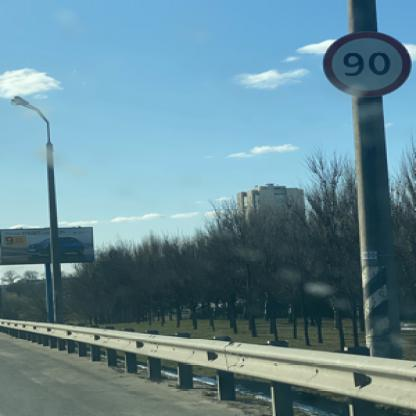speedlimit: (320, 29, 411, 96)
